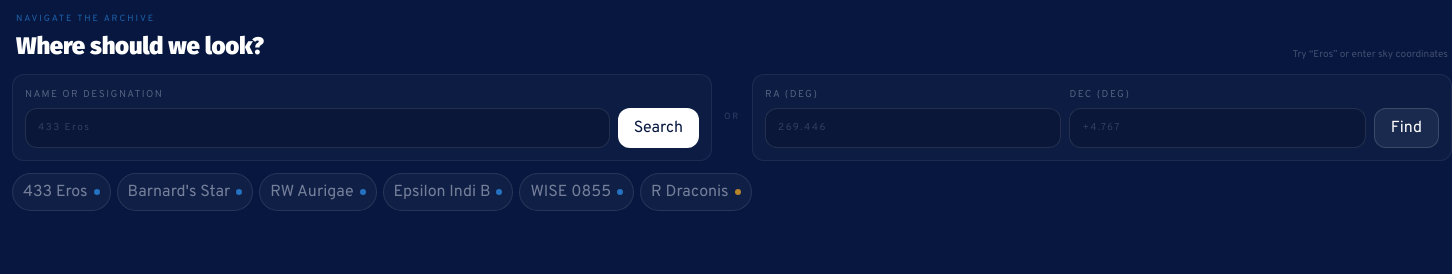
CoordinateSearch › announces the not-found message to screen readers via role="status"
This screenshot has width=1452, height=274.
Type "Planet Nine" into the field labelled "Name or designation" at (317, 128), box [25,108,610,148]
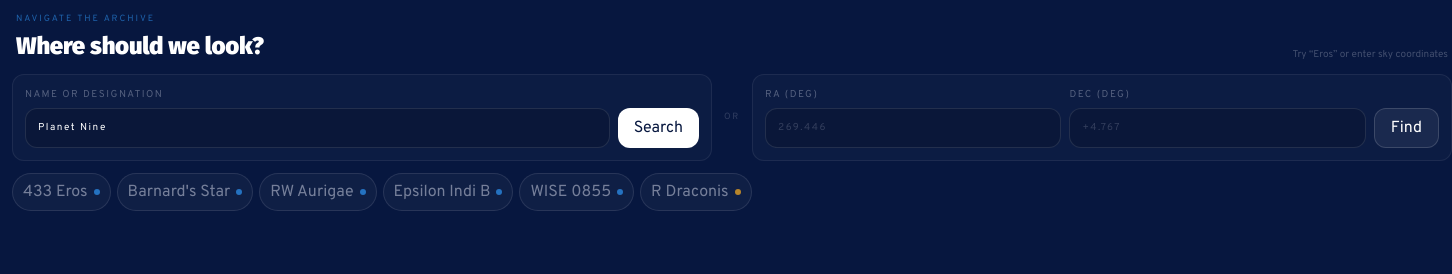
Click the button "Search" at (658, 128), box [618,108,699,148]
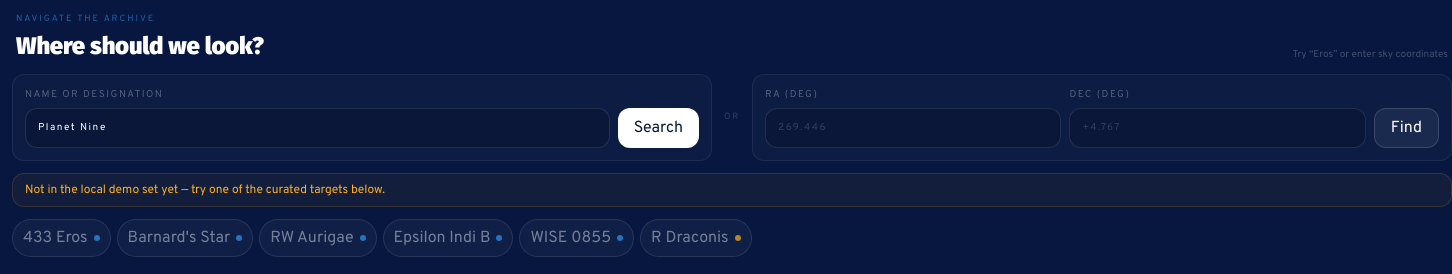
Result: the message reads "Not in the local demo set yet — try one of the curated targets below." at [25,182,385,198]
